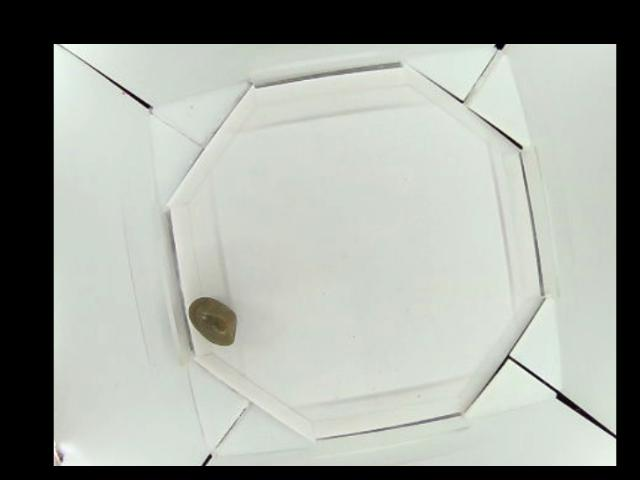Pebble: (188, 294, 240, 346)
